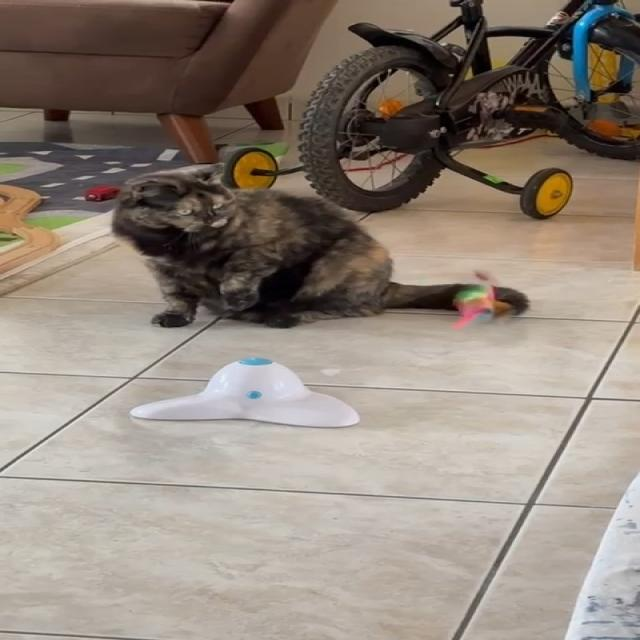authorized: (110, 161, 530, 329)
